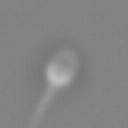normal: (26, 84, 55, 128)
